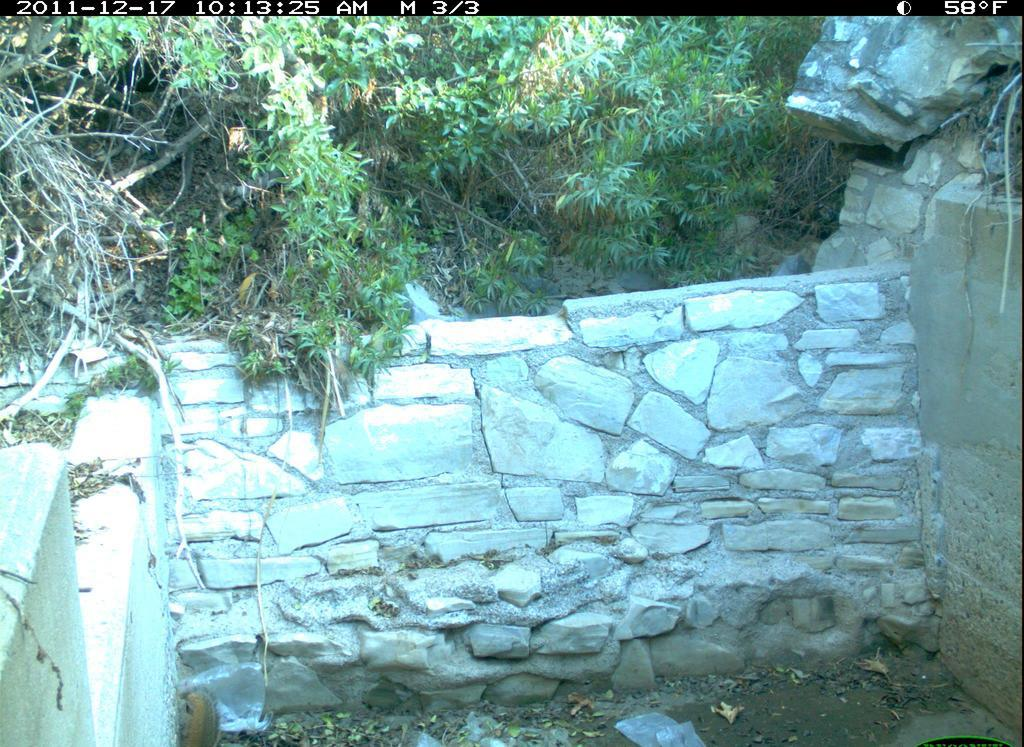squirrel: (167, 680, 227, 747)
